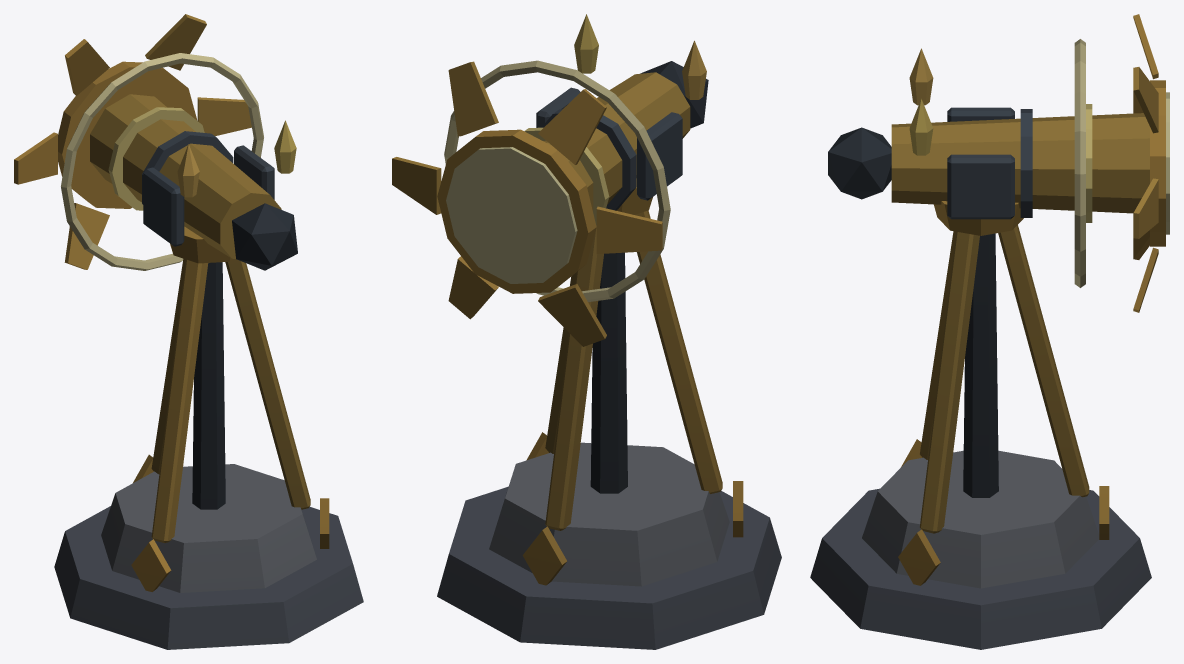
File: def_sunlance.glb
The picture shows the model from 3 angles, left to right: view 1: azimuth 30°, elevation 25°; view 2: azimuth 150°, elevation 25°; view 3: azimuth 270°, elevation 25°; orthographic projection. The views are drawn at different scales.
Visible parts, largest first — view 1: Base, Lens, Up3Lens, Up2Lens; view 2: Base, Lens, Up2Lens, Up3Lens; view 3: Base, Lens, Up3Lens, Up2Lens.
Part boxes in pixels (bbox=[...]): Base: bbox=[54, 226, 363, 649]; Lens: bbox=[58, 61, 297, 270]; Up3Lens: bbox=[61, 53, 296, 270]; Up2Lens: bbox=[14, 14, 251, 269]; Base: bbox=[437, 178, 781, 649]; Lens: bbox=[437, 61, 708, 293]; Up2Lens: bbox=[392, 61, 662, 346]; Up3Lens: bbox=[444, 14, 706, 302]; Base: bbox=[810, 201, 1151, 649]; Lens: bbox=[828, 80, 1169, 246]; Up3Lens: bbox=[909, 39, 1092, 287]; Up2Lens: bbox=[1133, 14, 1158, 312].
Bounding box in the file's own units: 1.72 × 2.98 × 1.81.
